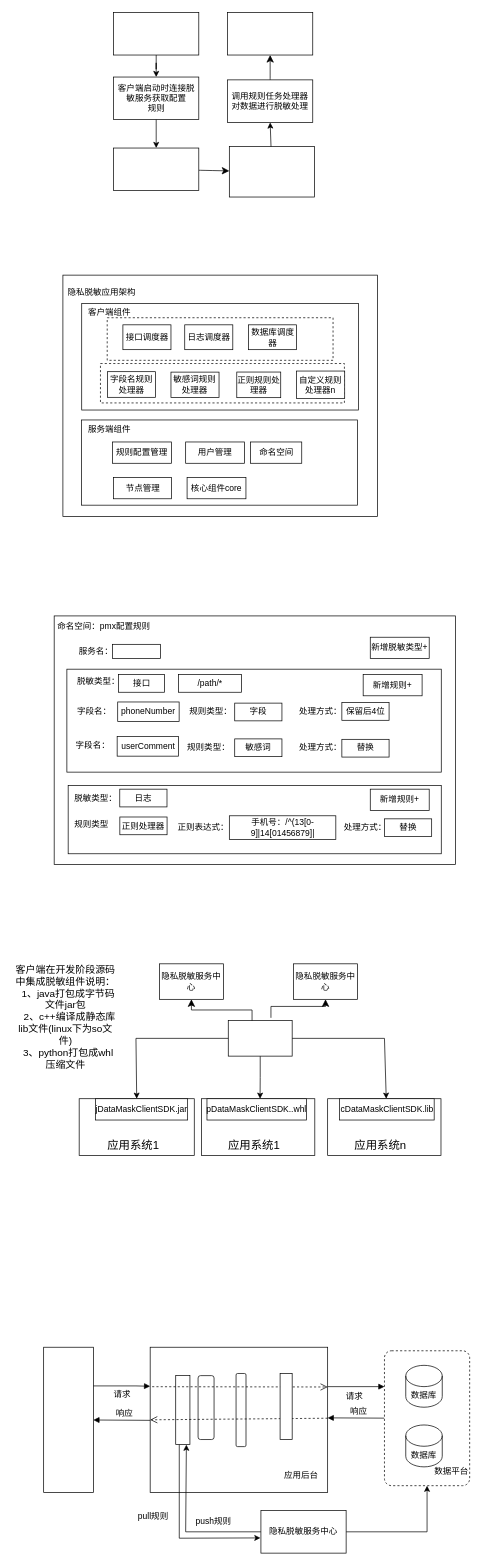
The diagram is 482 pixels wide and 1566 high, and some of its shapes have lost their labels. Each missing label, with the centre of its shape:
"delivery" goes at [136,651].
"业务层" goes at [240,1410].
"客户端 （web/小程序/移动端）" goes at [68,1419].
"客户端应用处理事件，在不同的业务场景下触发脱敏调度器拦截数据" goes at [156,169].
"数据层" goes at [285,1406].
"脱敏后的数据输出 给" goes at [270,33].
"脱敏服务中心配置服务的脱敏规则" goes at [156,33].
"脱敏调度器对应用配置的脱敏类型下的规则任务进行编排，然后调用编排后的任务处理器" goes at [272,171].
"视图层" goes at [205,1407].
"负载均衡" goes at [260,1038].
"隐私脱敏 组件" goes at [182,1410].
